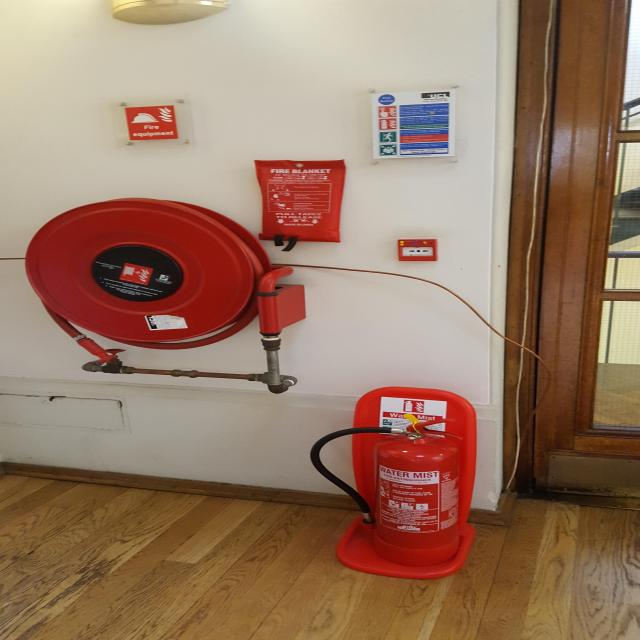fire_extinguisher: (306, 418, 482, 568)
